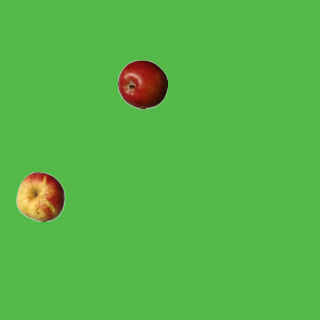Apple Braeburn: (117, 59, 167, 109)
Apple Red Yellow 1: (15, 171, 65, 221)
